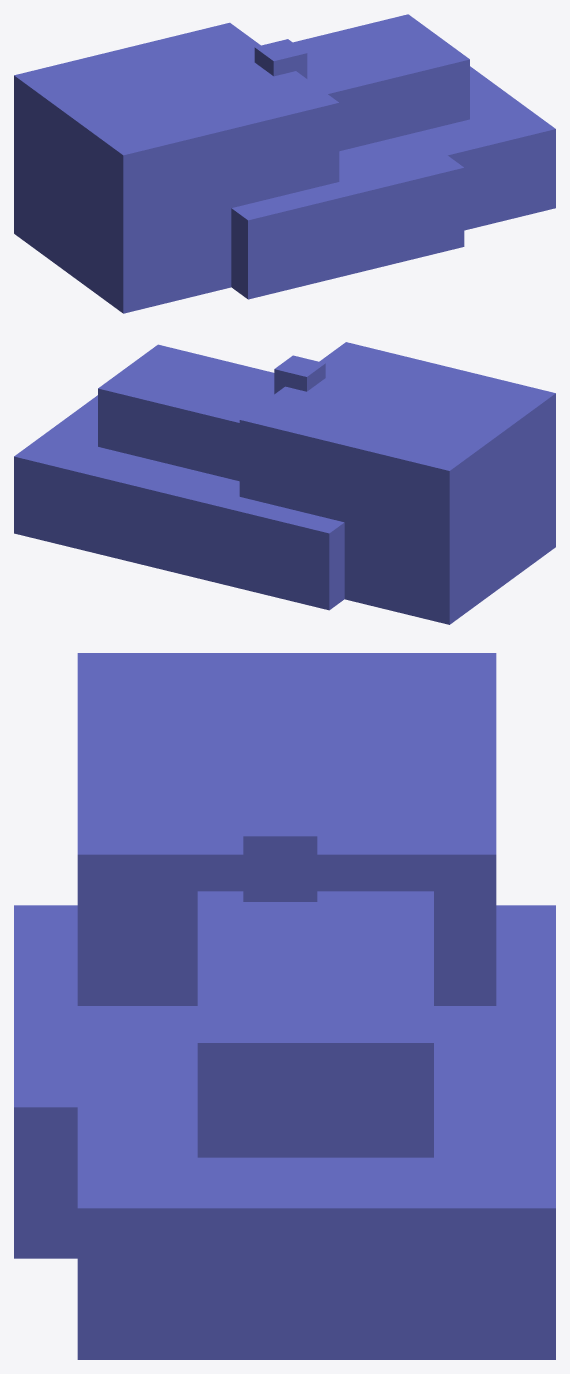
File: sarif01.fbx
3 views of the same model, one above another, from view 1: azimuth 30°, elevation 25°; view 2: azimuth 150°, elevation 25°; view 3: azimuth 270°, elevation 25° (orthographic). The views are drawn at different scales.
Parts seen in each view (by area): view 1: Plane.000; view 2: Plane.000; view 3: Plane.000.
Boxes of the visible parts, x1=… form: Plane.000: x1=14, y1=14, x2=555, y2=313; Plane.000: x1=14, y1=342, x2=555, y2=624; Plane.000: x1=14, y1=653, x2=555, y2=1359.
Size of the model in its own units: 1601 by 614 by 908.
